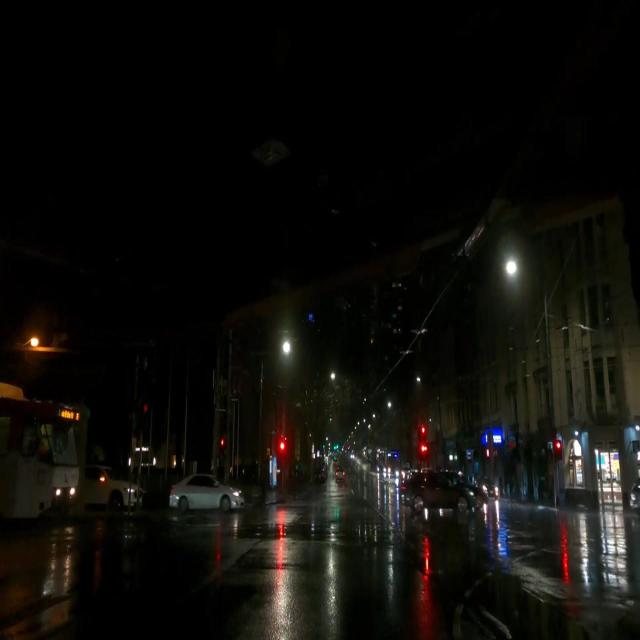Car: (397, 470, 484, 513), (166, 473, 242, 517)
